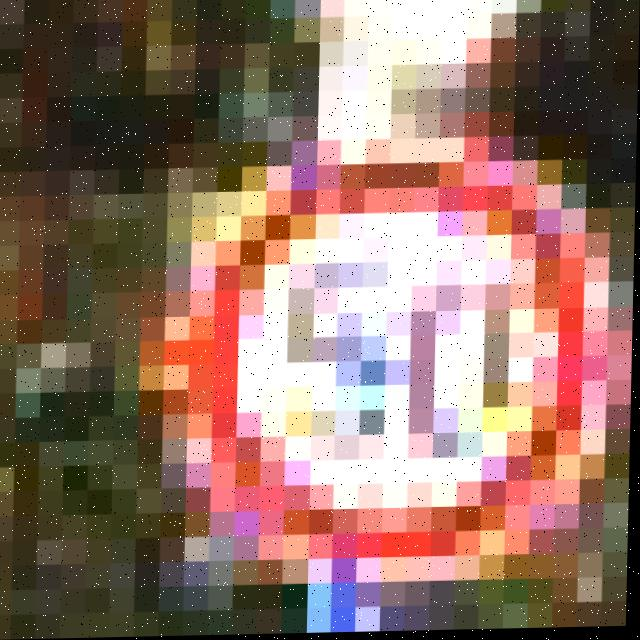speed_limit_50: (134, 133, 637, 563)
